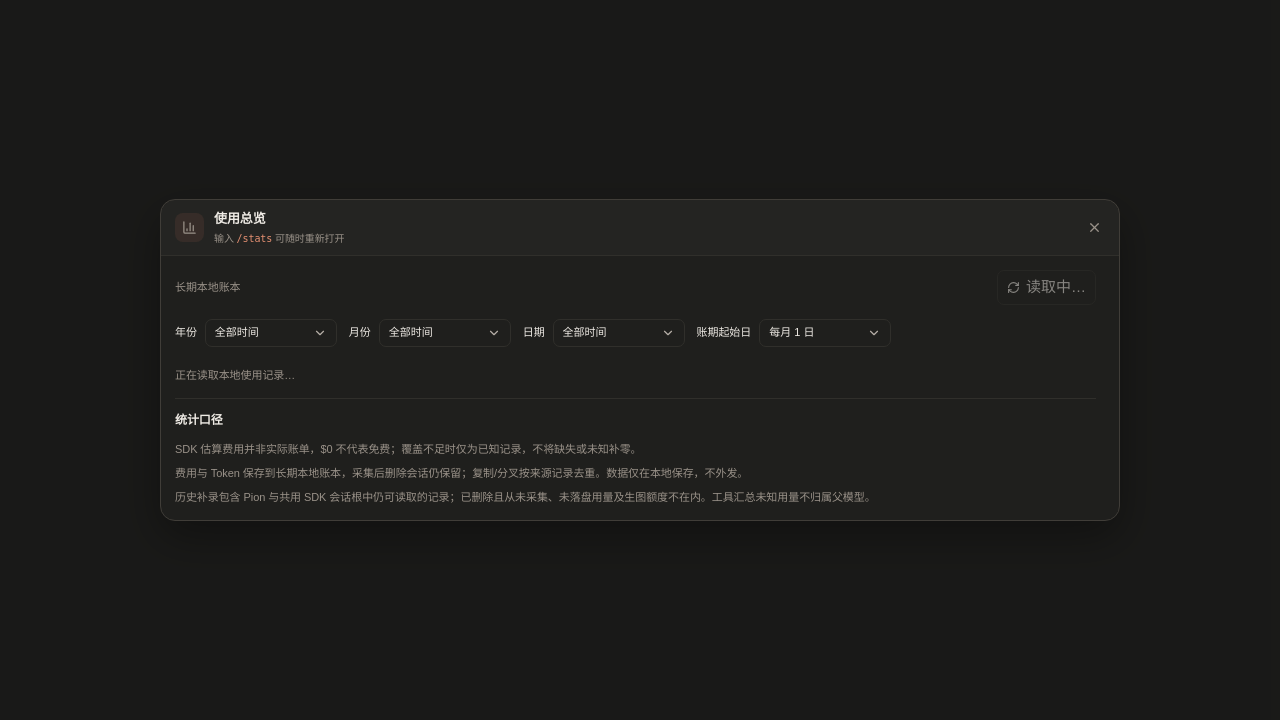
Test: UsageOverviewModal local snapshot lifecycle › holds the actual single-flight across close and unmount; a new activation cannot accept the old result or automatically retry
Click the button "读取中…": (1046, 287) [997, 270, 1096, 304]
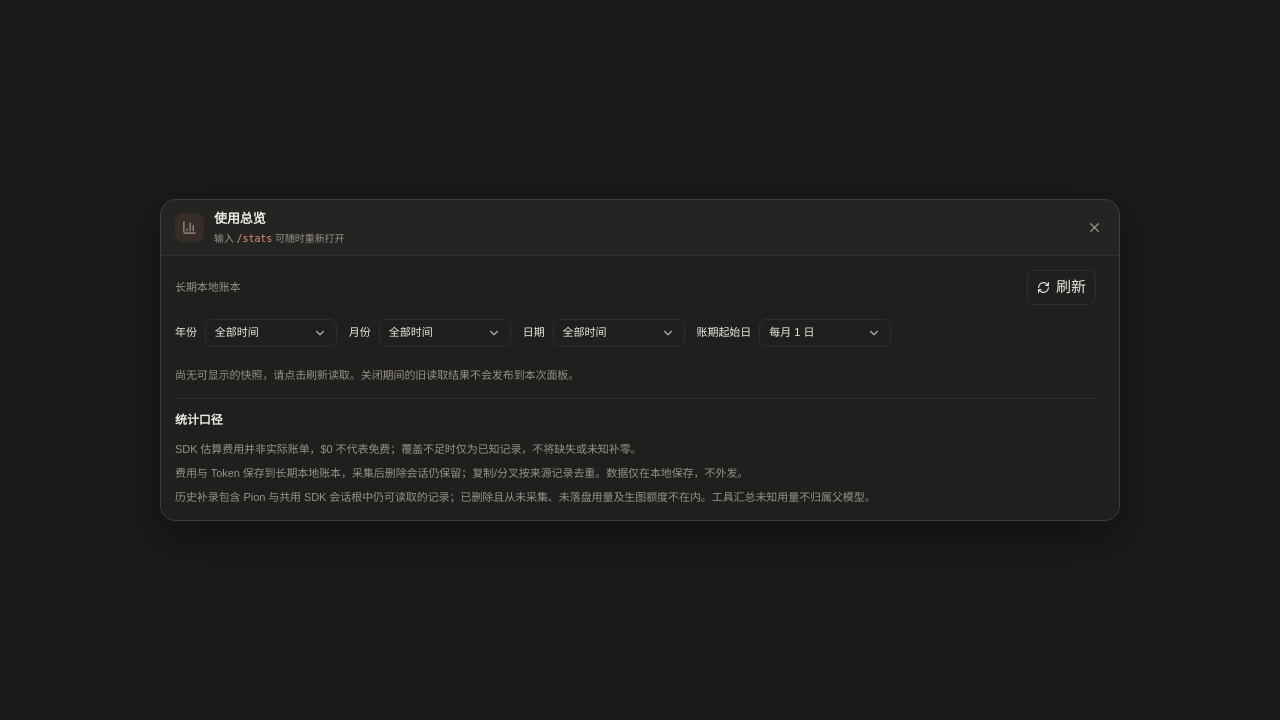
Now the message shows "尚无可显示的快照", box [175, 368, 579, 380]
Click the button "刷新": (1062, 287) [1027, 270, 1096, 304]
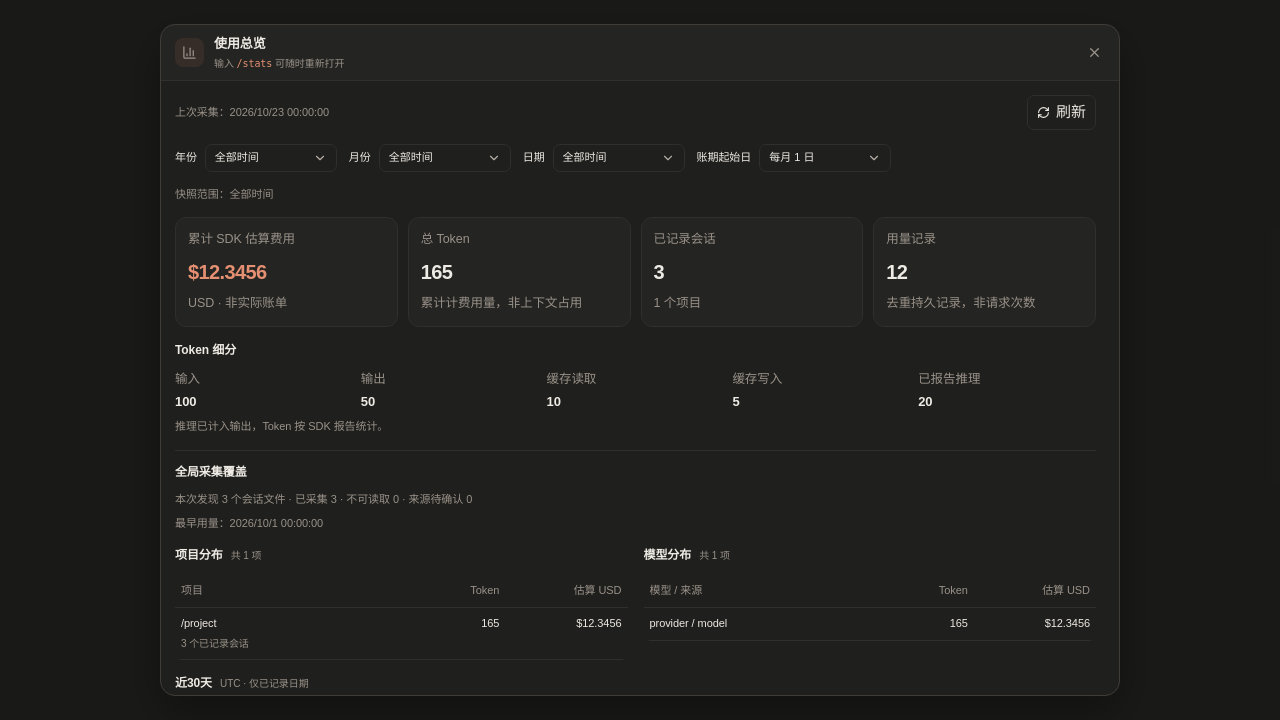
Now the element named "已记录累计使用数据" is shown, box [175, 217, 1096, 326]
